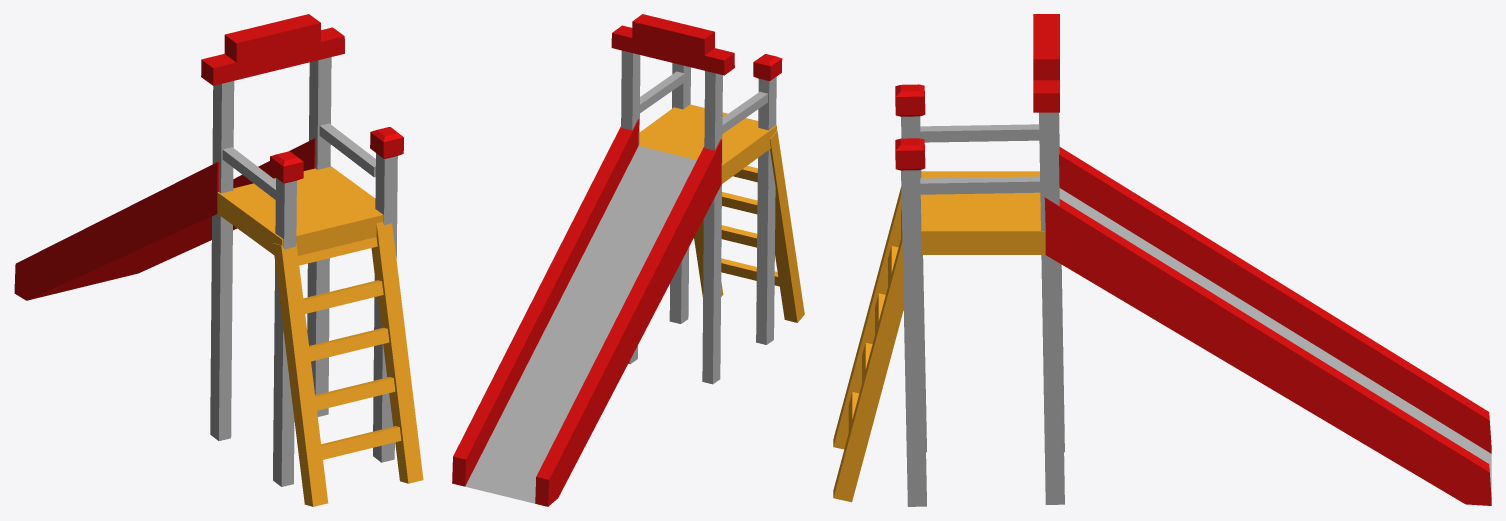
Rendered from Toboggan.glb.
3 renders of one model, left to right at view 1: azimuth 30°, elevation 25°; view 2: azimuth 150°, elevation 25°; view 3: azimuth 270°, elevation 25°, orthographic. The views are drawn at different scales.
Parts seen in each view (by area): view 1: Cube; view 2: Cube; view 3: Cube.
Part boxes in pixels (x1=…): Cube: x1=14, y1=14, x2=423, y2=506; Cube: x1=452, y1=14, x2=804, y2=506; Cube: x1=833, y1=14, x2=1491, y2=506.
Bounding box in the file's own units: 1.55 × 4.5 × 6.12.
Materials: 1 (1 with a texture image).
